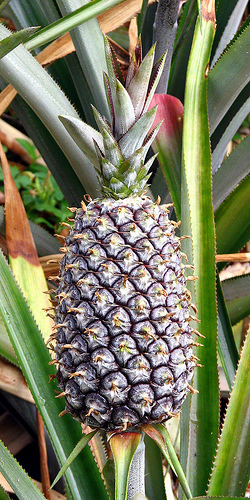pineapple: (42, 31, 206, 443)
